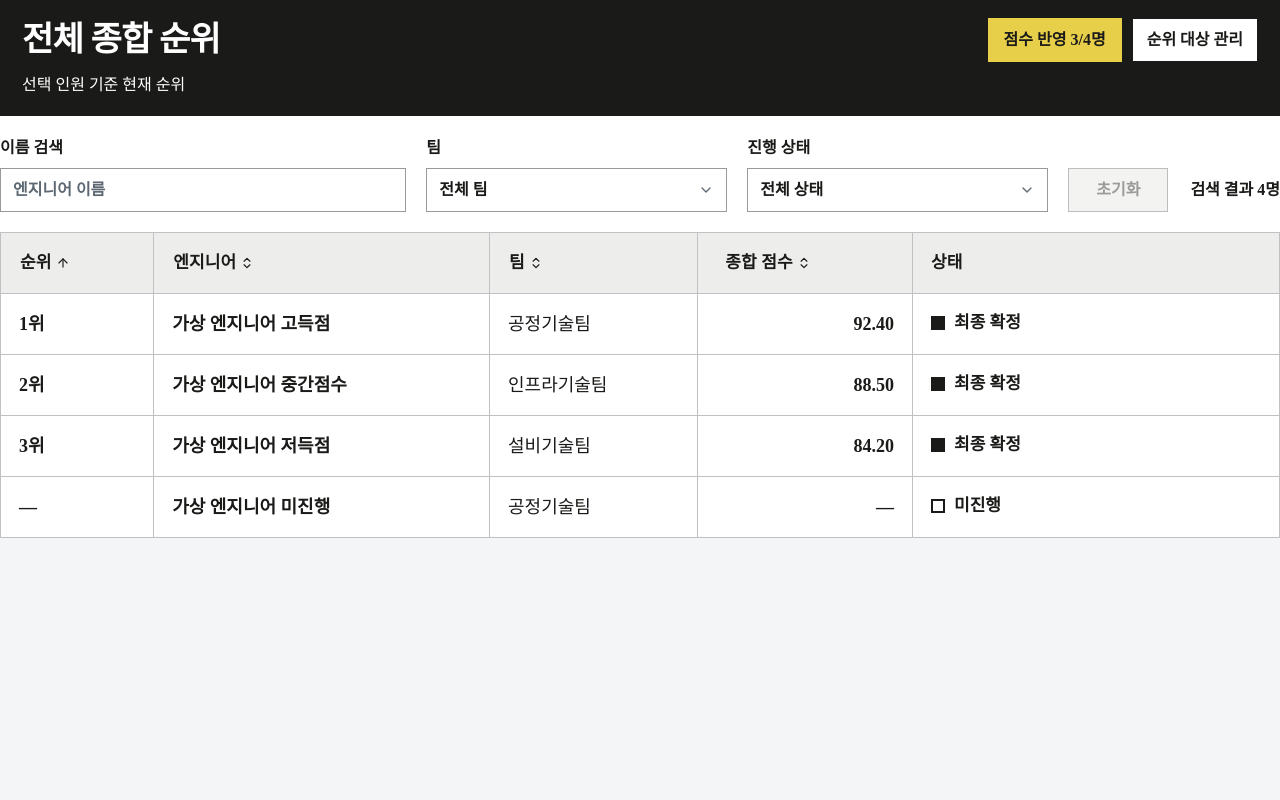
Test: completed ranking sorting › recalculates ranks after an engineer is excluded from the population
Click the button "순위 대상 관리". click: (1195,40)
box: [1132,18,1258,62]
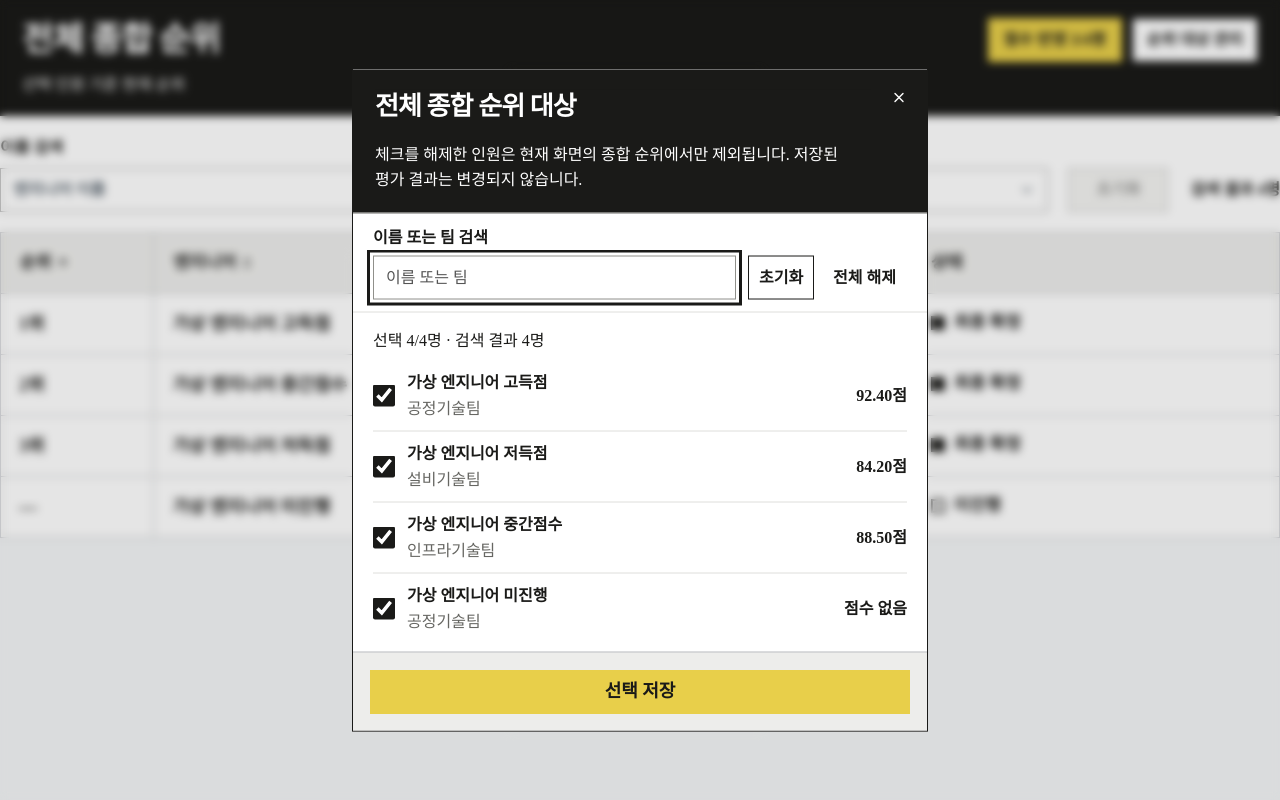
Click the checkbox named "가상 엔지니어 고득점 순위 포함". click: (384,396)
box: [373,384,395,406]
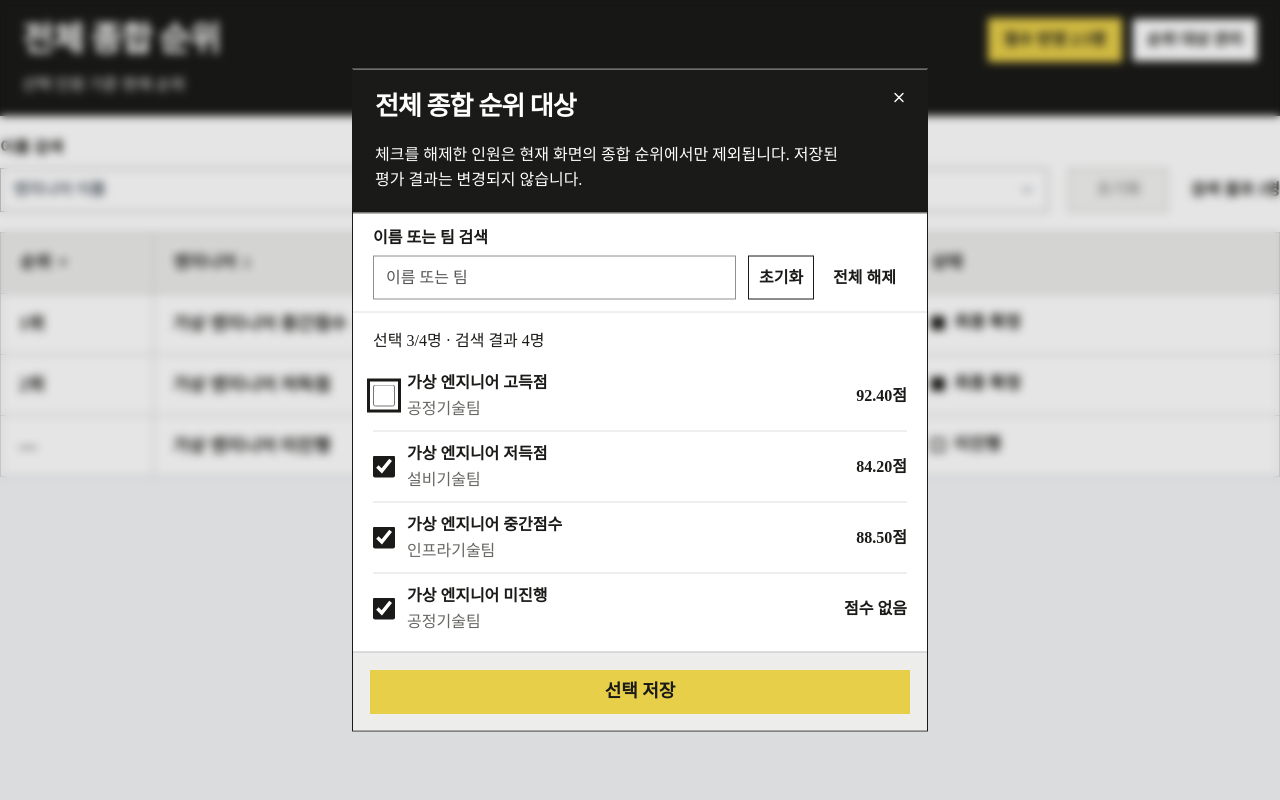
Click the button "선택 저장". click: (640,692)
box: [369,668,911,714]
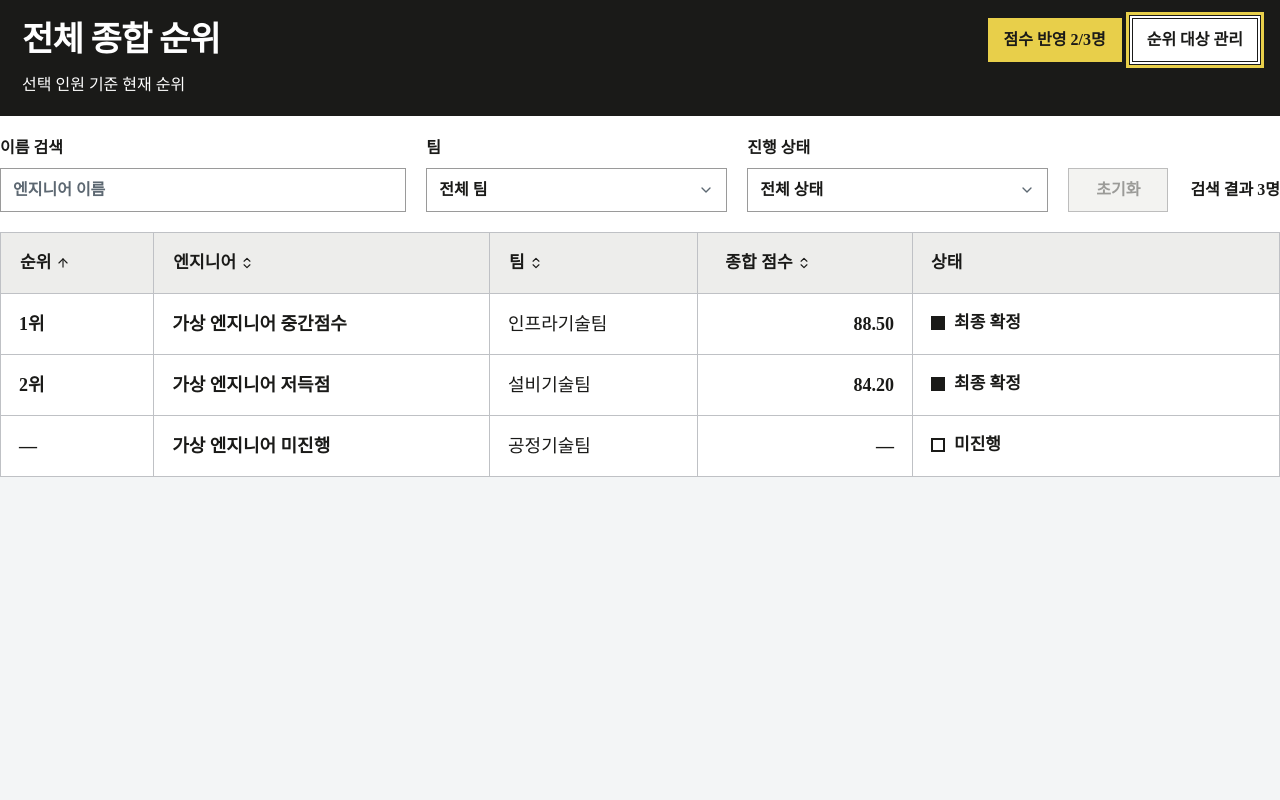
Result: the text "가상 엔지니어 중간점수" shows "1위" at [19,314,45,334]
Result: the dialog is gone
Result: the text "가상 엔지니어 고득점" is gone
